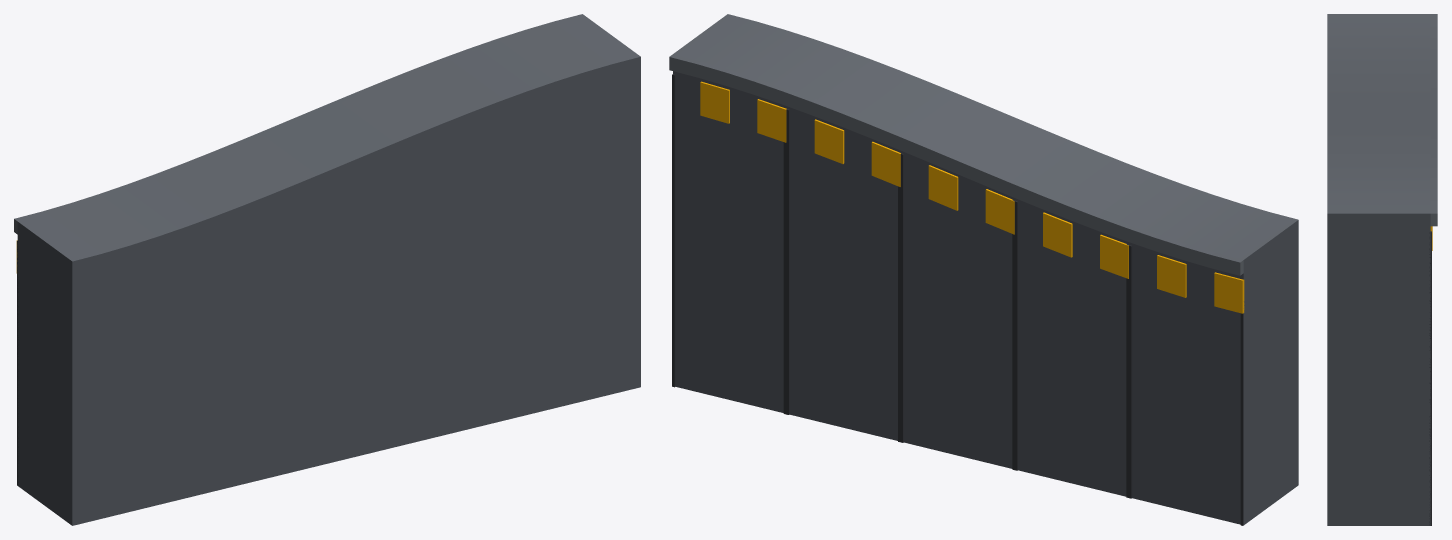
The picture shows the model from 3 angles, left to right: view 1: azimuth 30°, elevation 25°; view 2: azimuth 150°, elevation 25°; view 3: azimuth 270°, elevation 25°; orthographic projection. The views are drawn at different scales.
Visible parts, largest first — view 1: c0w; view 2: c0w; view 3: c0w.
Part boxes in pixels (x1=…): c0w: x1=14, y1=14, x2=640, y2=525; c0w: x1=669, y1=14, x2=1298, y2=525; c0w: x1=1327, y1=14, x2=1437, y2=525.
Size of the model in its own units: 9 by 5 by 1.6.
